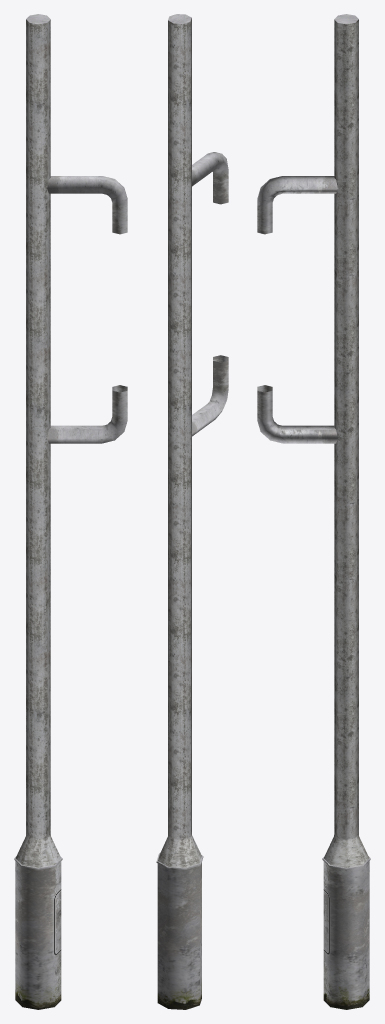
Rendered from traffic_lamp_column_little.fbx.
3 renders of one model, left to right at view 1: azimuth 90°, elevation 25°; view 2: azimuth 150°, elevation 25°; view 3: azimuth 270°, elevation 25°, orthographic.
Parts seen in each view (by area): view 1: traffic_lamp_column_little; view 2: traffic_lamp_column_little; view 3: traffic_lamp_column_little.
Boxes of the visible parts, x1,y1,x2,y2 form: traffic_lamp_column_little: (14, 14, 127, 1009); traffic_lamp_column_little: (156, 14, 228, 1009); traffic_lamp_column_little: (257, 14, 370, 1009).
Bounding box in the file's own units: 0.2136 × 4.76 × 0.5003.
